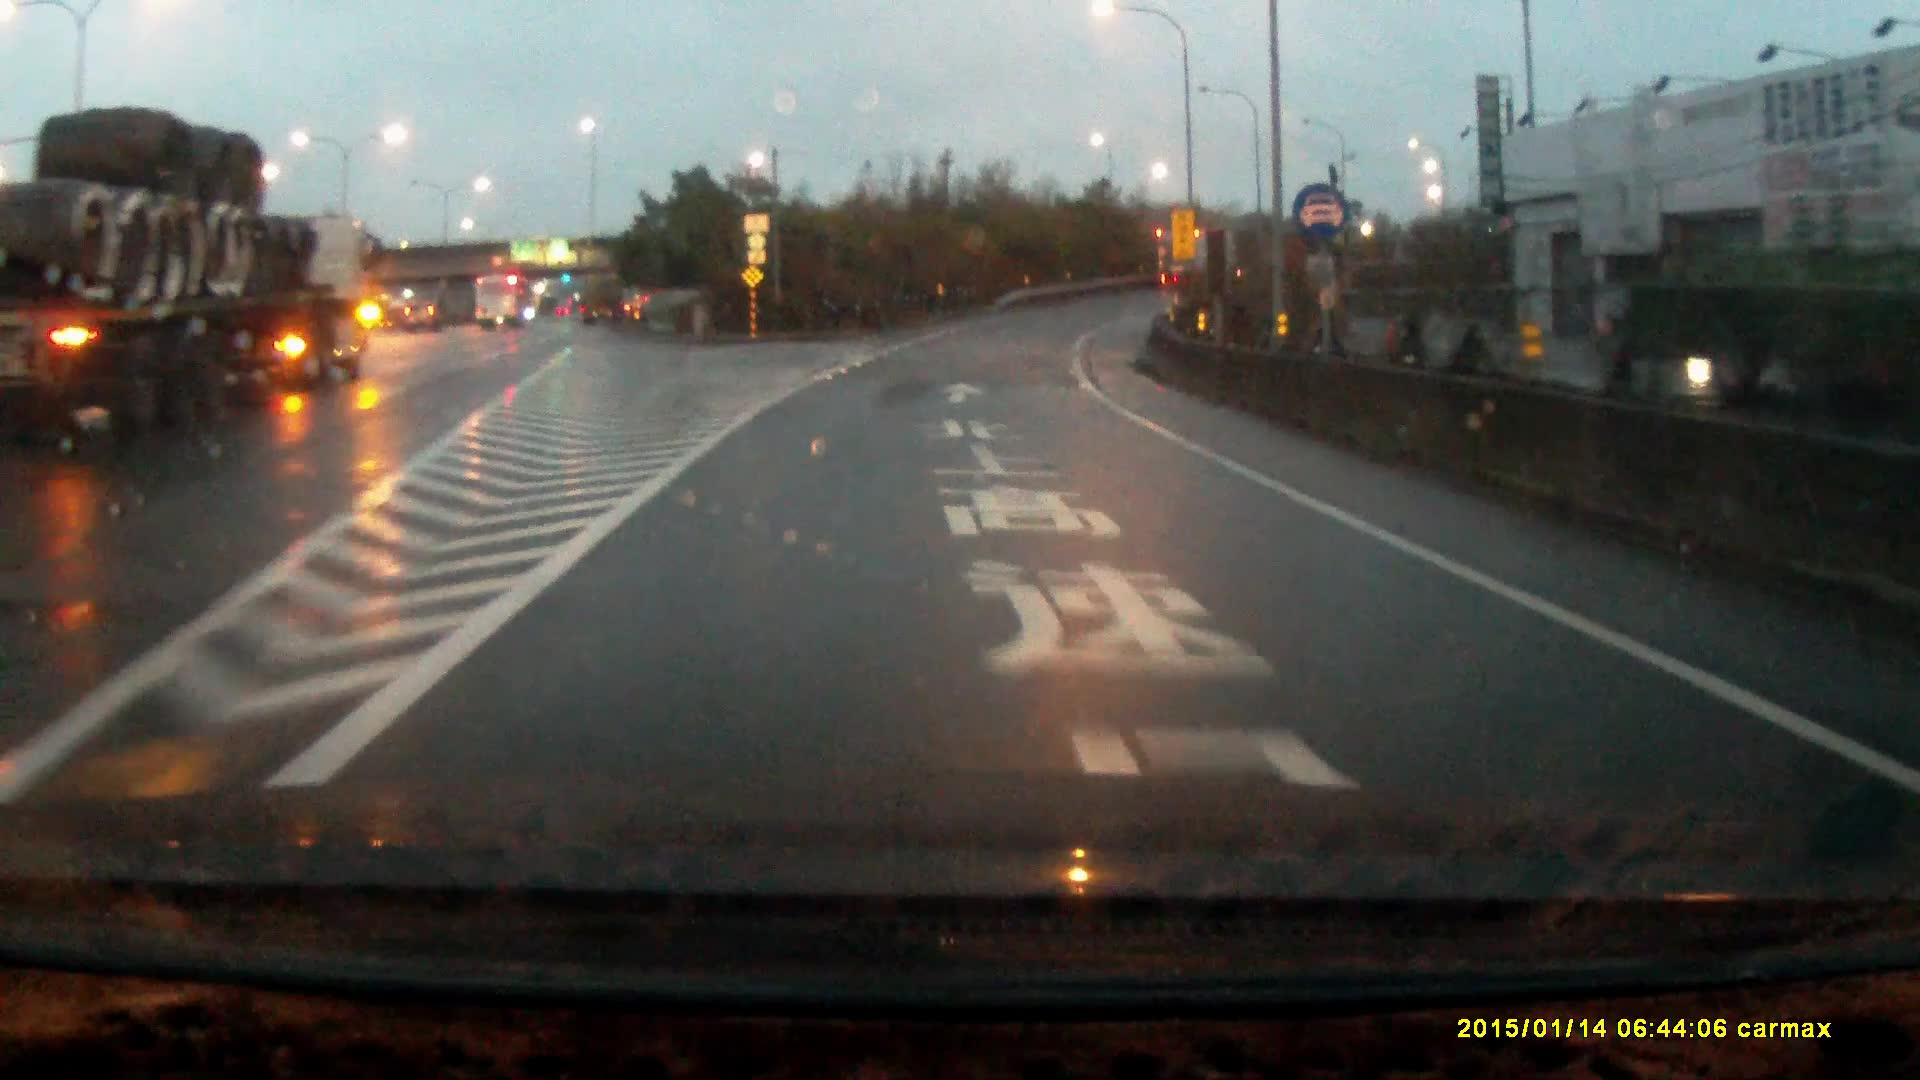vehicle: (1, 111, 375, 440), (1153, 224, 1246, 287), (475, 276, 535, 331), (404, 295, 442, 332)
